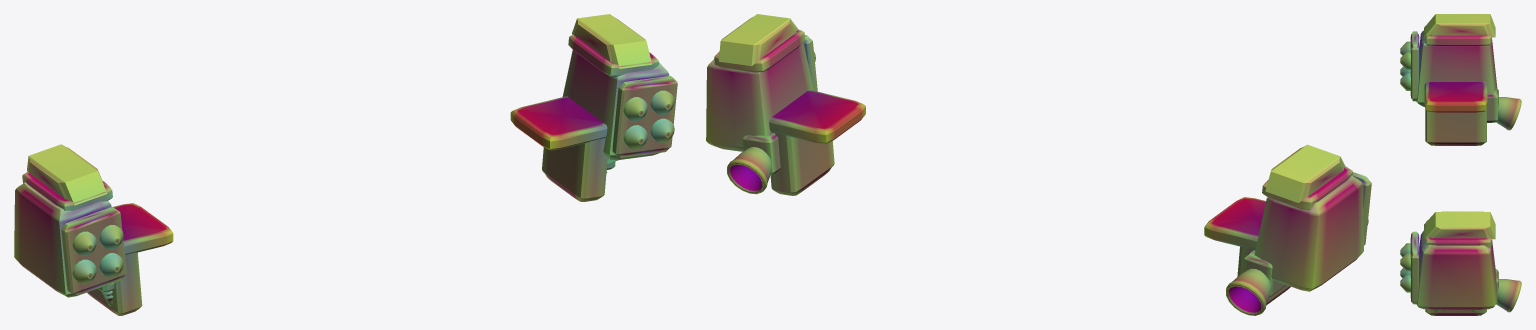
Rendered from llm_gen_shoulder_pods_050_f2d565.glb.
3 views of the same model, side by side, from view 1: azimuth 30°, elevation 25°; view 2: azimuth 150°, elevation 25°; view 3: azimuth 270°, elevation 25° (orthographic). The views are drawn at different scales.
Parts seen in each view (by area): view 1: adapter_shoulder_yoke_r, missile_box_hull_1_barrel_metal_l, adapter_shoulder_yoke_l, missile_box_hull_1_barrel_metal_r, missile_top_cowl_3_titanium_silver_l, adapter_sub_missile_bezel_dark_4_adapter_dark_r, adapter_sub_missile_bezel_dark_4_adapter_dark_l, missile_top_cowl_3_titanium_silver_r, adapter_sub_missile_hood_dark_2_adapter_dark_r, adapter_sub_missile_hood_dark_2_adapter_dark_l, missile_cell_tl_5_crimson_gloss_r, missile_cell_tl_5_crimson_gloss_l (+6 smaller); view 2: missile_box_hull_1_barrel_metal_l, missile_box_hull_1_barrel_metal_r, adapter_shoulder_yoke_r, missile_top_cowl_3_titanium_silver_l, missile_top_cowl_3_titanium_silver_r, adapter_shoulder_yoke_l, addon_sh_vernier_10_vernier_bell_vernier_l, addon_sh_vernier_10_vernier_bell_vernier_r, adapter_sub_missile_hood_dark_2_adapter_dark_r, adapter_sub_missile_hood_dark_2_adapter_dark_l, addon_sh_mount_bracket_9_adapter_dark_r, addon_sh_mount_bracket_9_adapter_dark_l (+1 smaller); view 3: missile_box_hull_1_barrel_metal_r, adapter_shoulder_yoke_l, missile_box_hull_1_barrel_metal_l, missile_top_cowl_3_titanium_silver_r, missile_top_cowl_3_titanium_silver_l, adapter_sub_missile_hood_dark_2_adapter_dark_l, addon_sh_vernier_10_vernier_bell_vernier_r, adapter_sub_missile_bezel_dark_4_adapter_dark_r, addon_sh_vernier_10_vernier_bell_vernier_l, adapter_sub_missile_bezel_dark_4_adapter_dark_l, adapter_sub_missile_hood_dark_2_adapter_dark_r, addon_sh_mount_bracket_9_adapter_dark_l (+7 smaller).
Boxes of the visible parts, x1,y1,x2,y2 form: adapter_shoulder_yoke_r: (510,96,618,201); missile_box_hull_1_barrel_metal_l: (14,182,111,297); adapter_shoulder_yoke_l: (87,203,173,315); missile_box_hull_1_barrel_metal_r: (562,50,669,159); missile_top_cowl_3_titanium_silver_l: (27,144,107,205); adapter_sub_missile_bezel_dark_4_adapter_dark_r: (612,76,677,157); adapter_sub_missile_bezel_dark_4_adapter_dark_l: (61,207,126,295); missile_top_cowl_3_titanium_silver_r: (572,14,652,68); adapter_sub_missile_hood_dark_2_adapter_dark_r: (568,34,658,76); adapter_sub_missile_hood_dark_2_adapter_dark_l: (22,171,112,210); missile_cell_tl_5_crimson_gloss_r: (623,97,647,121); missile_cell_tl_5_crimson_gloss_l: (99,225,123,249); missile_box_hull_1_barrel_metal_l: (1254,176,1363,291); missile_box_hull_1_barrel_metal_r: (706,42,813,151); adapter_shoulder_yoke_r: (769,90,865,195); missile_top_cowl_3_titanium_silver_l: (1265,144,1345,202); missile_top_cowl_3_titanium_silver_r: (719,14,798,65); adapter_shoulder_yoke_l: (1204,197,1290,305); addon_sh_vernier_10_vernier_bell_vernier_l: (1226,268,1271,315); addon_sh_vernier_10_vernier_bell_vernier_r: (727,147,772,194); adapter_sub_missile_hood_dark_2_adapter_dark_r: (714,29,805,72); adapter_sub_missile_hood_dark_2_adapter_dark_l: (1262,166,1352,210); addon_sh_mount_bracket_9_adapter_dark_r: (742,132,780,175); addon_sh_mount_bracket_9_adapter_dark_l: (1243,250,1285,297); missile_box_hull_1_barrel_metal_r: (1416,230,1497,309); adapter_shoulder_yoke_l: (1424,82,1487,145); missile_box_hull_1_barrel_metal_l: (1416,30,1497,106); missile_top_cowl_3_titanium_silver_r: (1424,211,1495,239); missile_top_cowl_3_titanium_silver_l: (1424,14,1495,37); adapter_sub_missile_hood_dark_2_adapter_dark_l: (1424,26,1491,45); addon_sh_vernier_10_vernier_bell_vernier_r: (1496,279,1521,312); adapter_sub_missile_bezel_dark_4_adapter_dark_r: (1410,231,1419,304); addon_sh_vernier_10_vernier_bell_vernier_l: (1496,97,1521,130); adapter_sub_missile_bezel_dark_4_adapter_dark_l: (1410,31,1419,101); adapter_sub_missile_hood_dark_2_adapter_dark_r: (1424,220,1491,247); addon_sh_mount_bracket_9_adapter_dark_l: (1487,88,1498,122).
Bounding box in the file's own units: 110 × 25.2 × 25.1.
